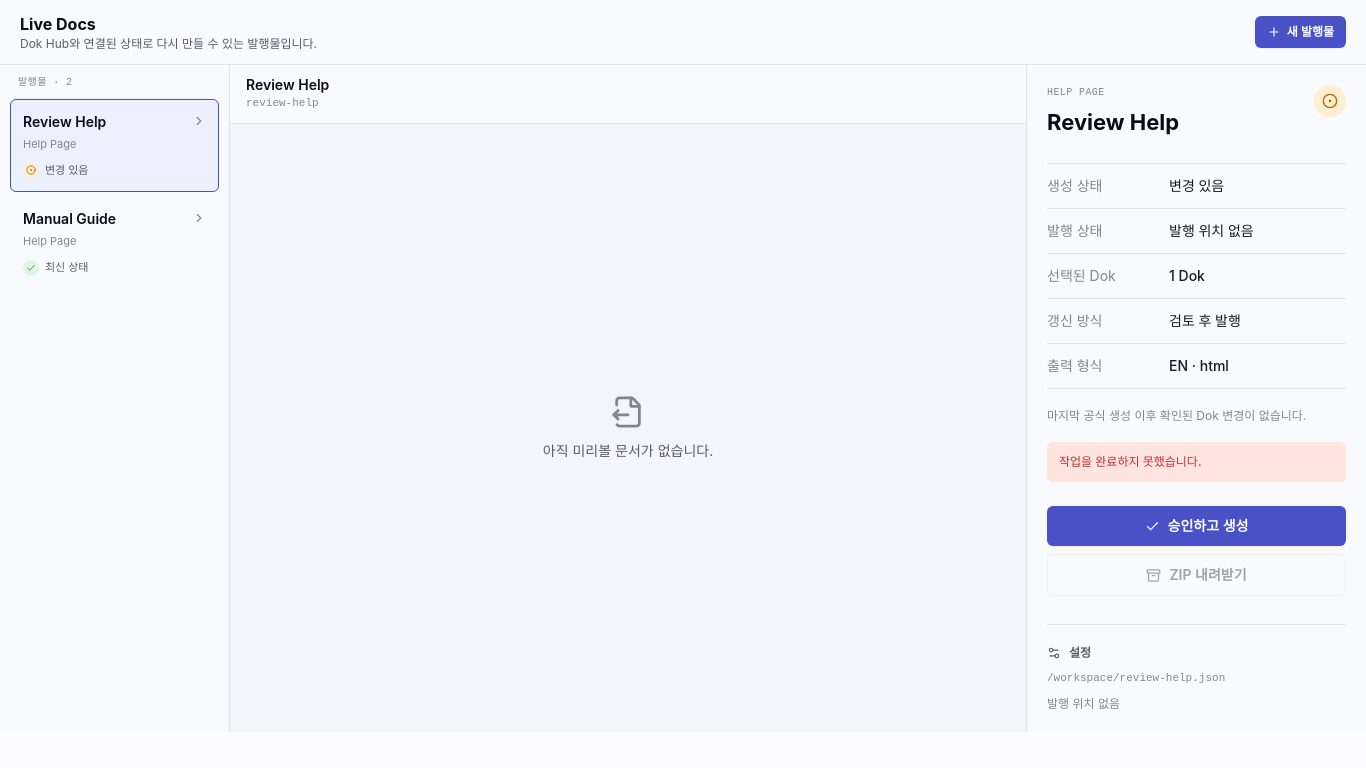
Test: PublicationWorkbench › shows localized action errors instead of raw CLI messages
The image size is (1366, 768).
Click the button "승인하고 생성": x=1196, y=526 x1=1047 y1=506 x2=1346 y2=546
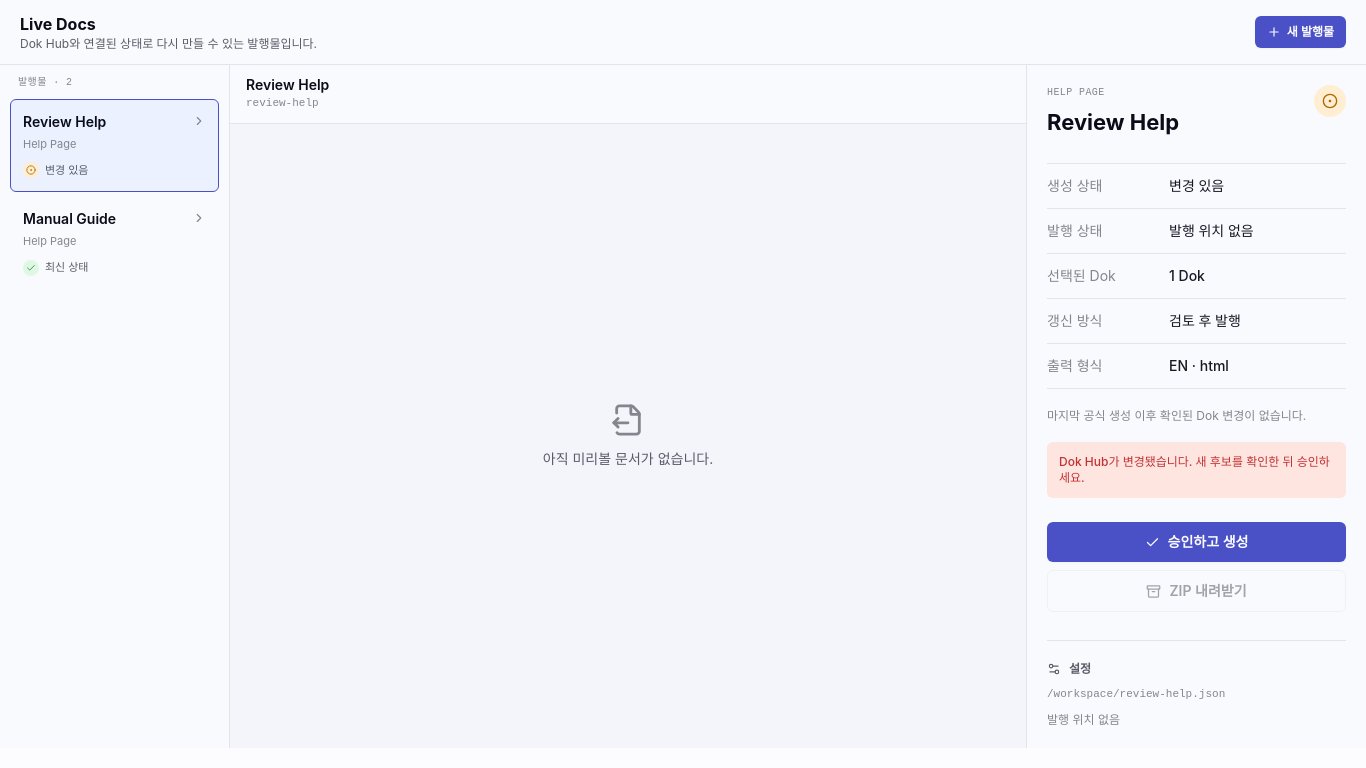
Result: the text "Dok Hub가 변경됐습니다. 새 후보를 확인한 뒤 승인하세요." is shown at x1=1047 y1=442 x2=1346 y2=498
